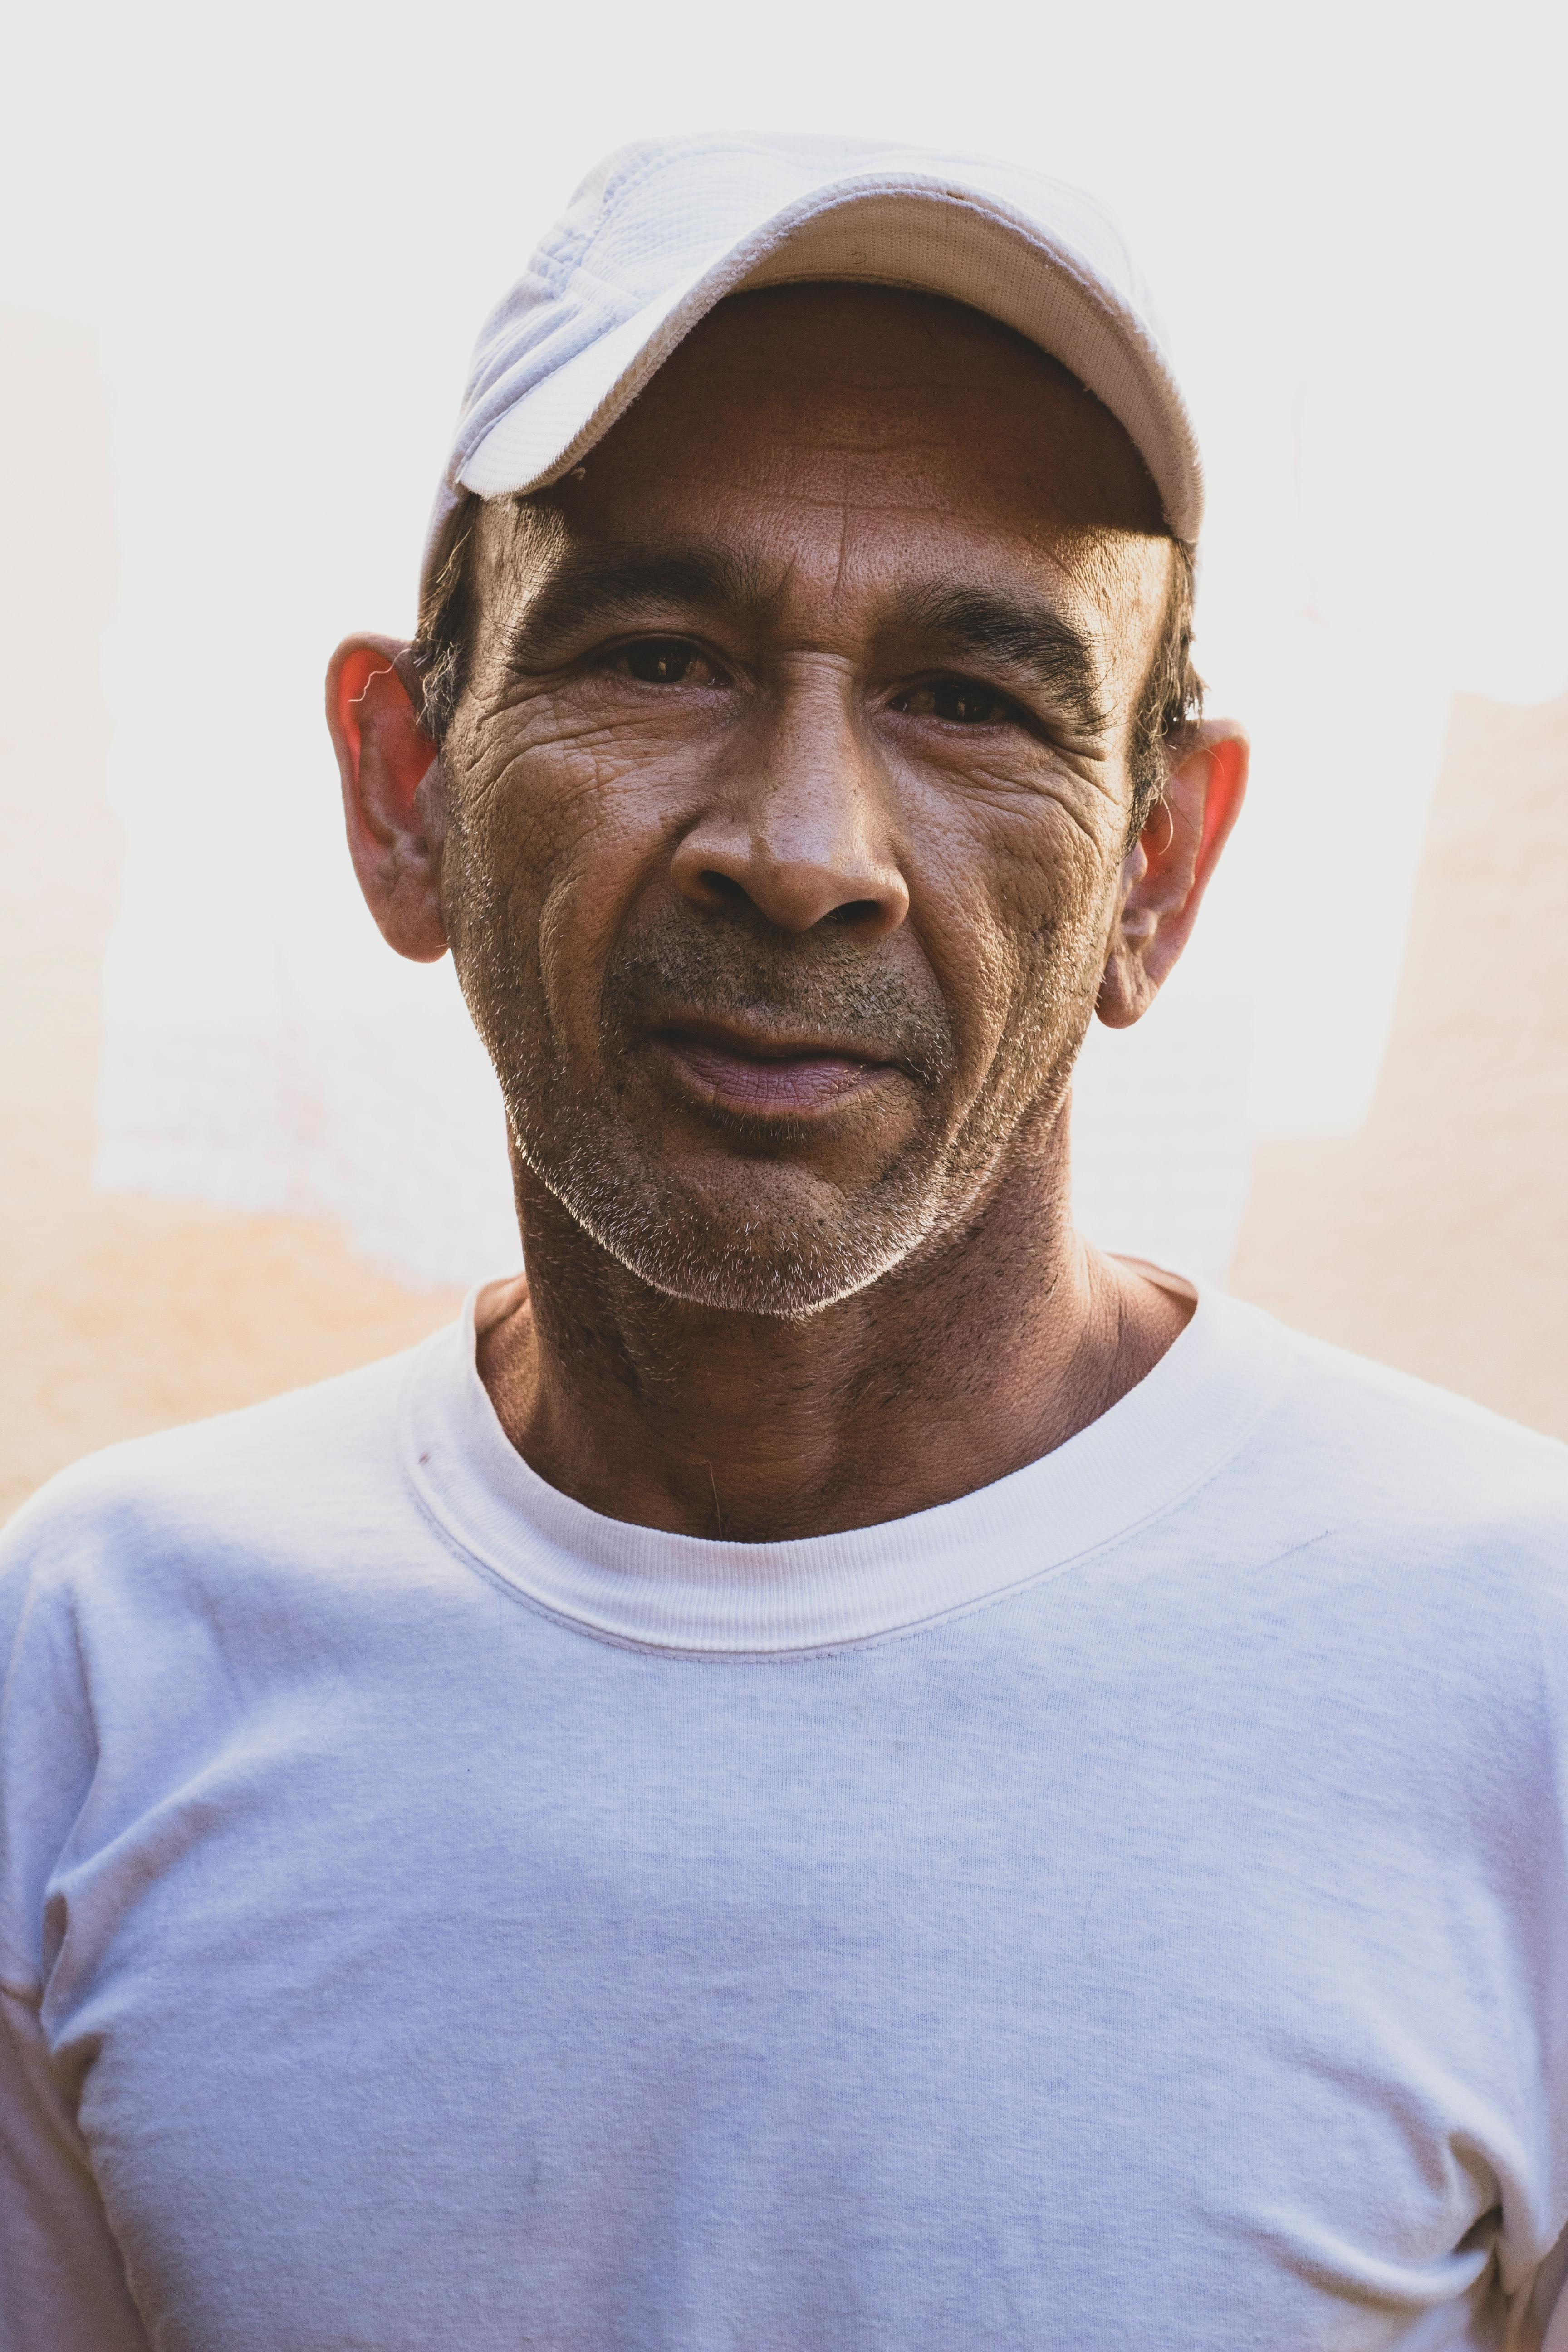Wrinkles: (688, 474, 1080, 579), (474, 721, 642, 803), (980, 768, 1102, 852), (476, 689, 555, 723), (952, 791, 1036, 821), (1069, 770, 1123, 810), (835, 474, 847, 597), (807, 439, 948, 450)
